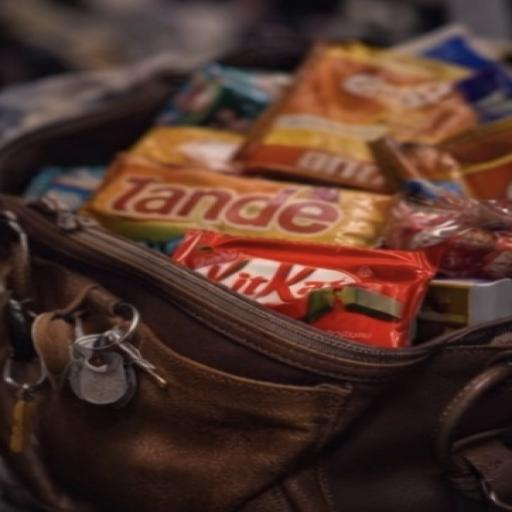kitkat: (127, 212, 479, 398)
